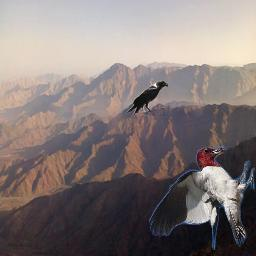Crow: (125, 79, 168, 116)
Woodpecker: (149, 144, 255, 250)
